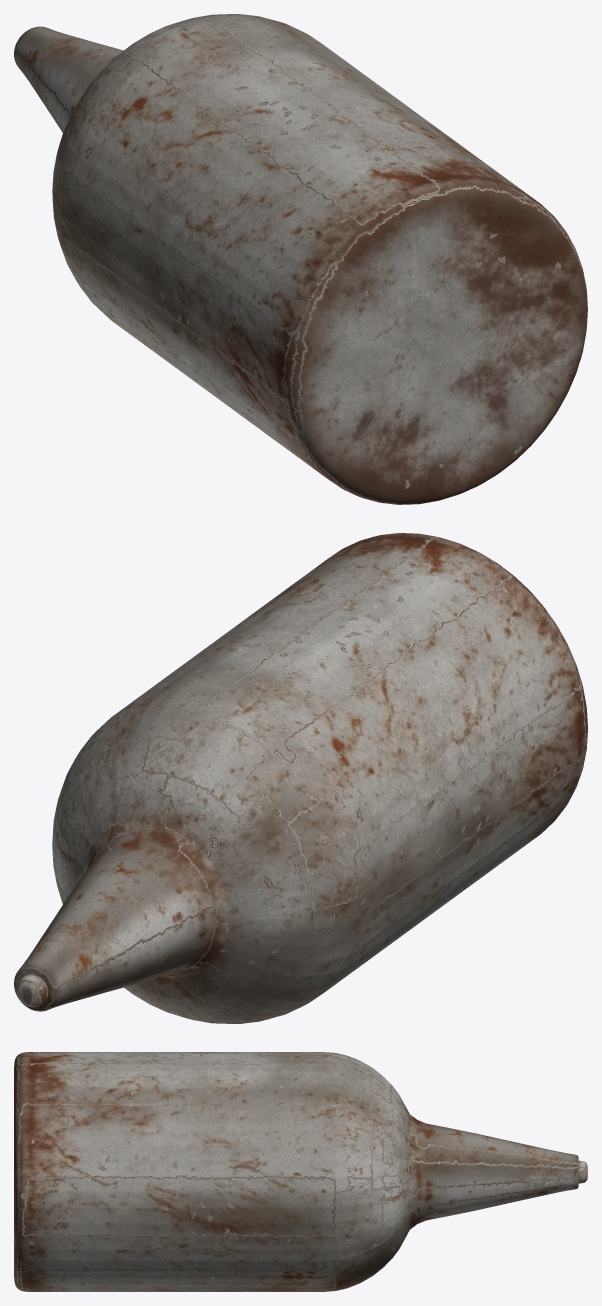
3 renders of one model, top to bottom at view 1: azimuth 30°, elevation 25°; view 2: azimuth 150°, elevation 25°; view 3: azimuth 270°, elevation 25°, orthographic. The views are drawn at different scales.
Bounding box in the file's own units: 0.7802 × 0.7801 × 1.87.
1 material, 1 textured.
